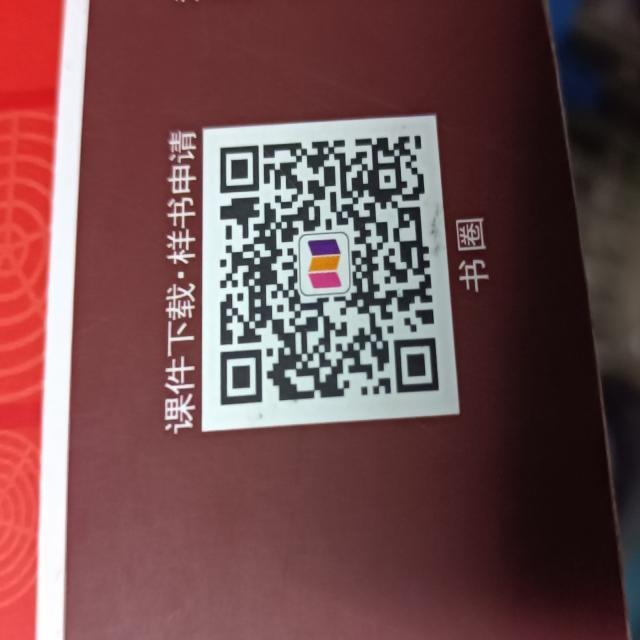qr_code: (220, 133, 440, 405)
